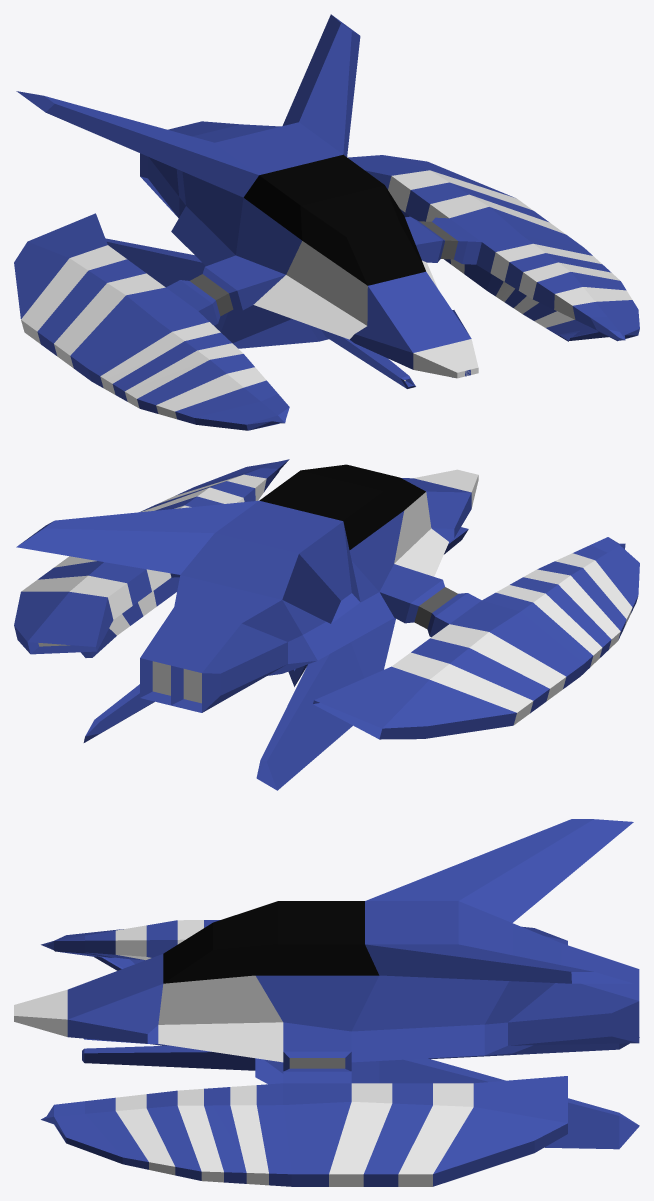
Rendered from ship1.fbx.
3 renders of one model, top to bottom at view 1: azimuth 30°, elevation 25°; view 2: azimuth 150°, elevation 25°; view 3: azimuth 270°, elevation 25°, orthographic. The views are drawn at different scales.
Visible parts, largest first — view 1: Cube.001; view 2: Cube.001; view 3: Cube.001.
Boxes of the visible parts, x1=… form: Cube.001: x1=14, y1=14, x2=639, y2=430; Cube.001: x1=14, y1=459, x2=639, y2=790; Cube.001: x1=14, y1=819, x2=639, y2=1186.
Bounding box in the file's own units: 974 × 370 × 1010.
